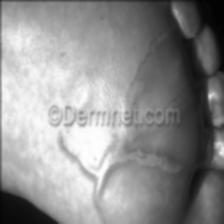Toxin: (55, 130, 181, 194)
